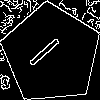I: (26, 29, 69, 69)
